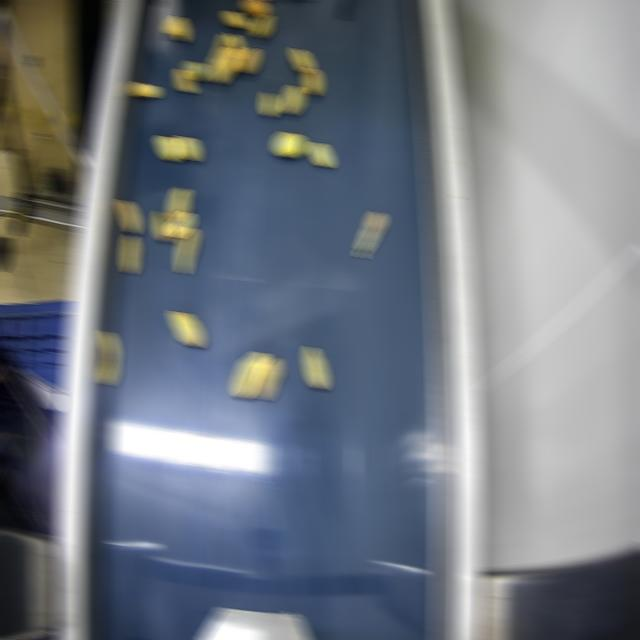Baby Potato: (234, 353, 267, 398), (357, 212, 384, 258), (171, 311, 202, 346), (257, 356, 280, 399), (211, 48, 238, 83), (100, 330, 117, 385), (305, 346, 326, 389), (178, 227, 195, 273), (275, 132, 304, 157), (211, 35, 232, 68), (169, 187, 188, 221), (119, 200, 138, 233), (169, 211, 192, 238), (282, 85, 303, 114), (157, 136, 180, 161), (165, 16, 188, 41), (123, 235, 138, 273), (311, 142, 332, 167), (238, 47, 257, 73), (292, 48, 311, 73), (155, 211, 170, 242), (179, 136, 198, 160), (252, 14, 271, 37), (131, 81, 158, 97), (305, 68, 320, 95), (184, 61, 205, 80), (244, 0, 267, 17), (225, 11, 246, 29), (227, 33, 242, 58), (261, 92, 276, 116), (178, 69, 193, 92)
